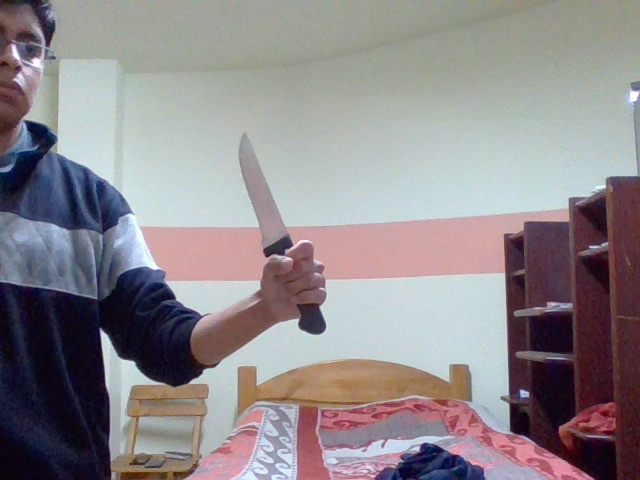cuchillo: (222, 124, 325, 329)
